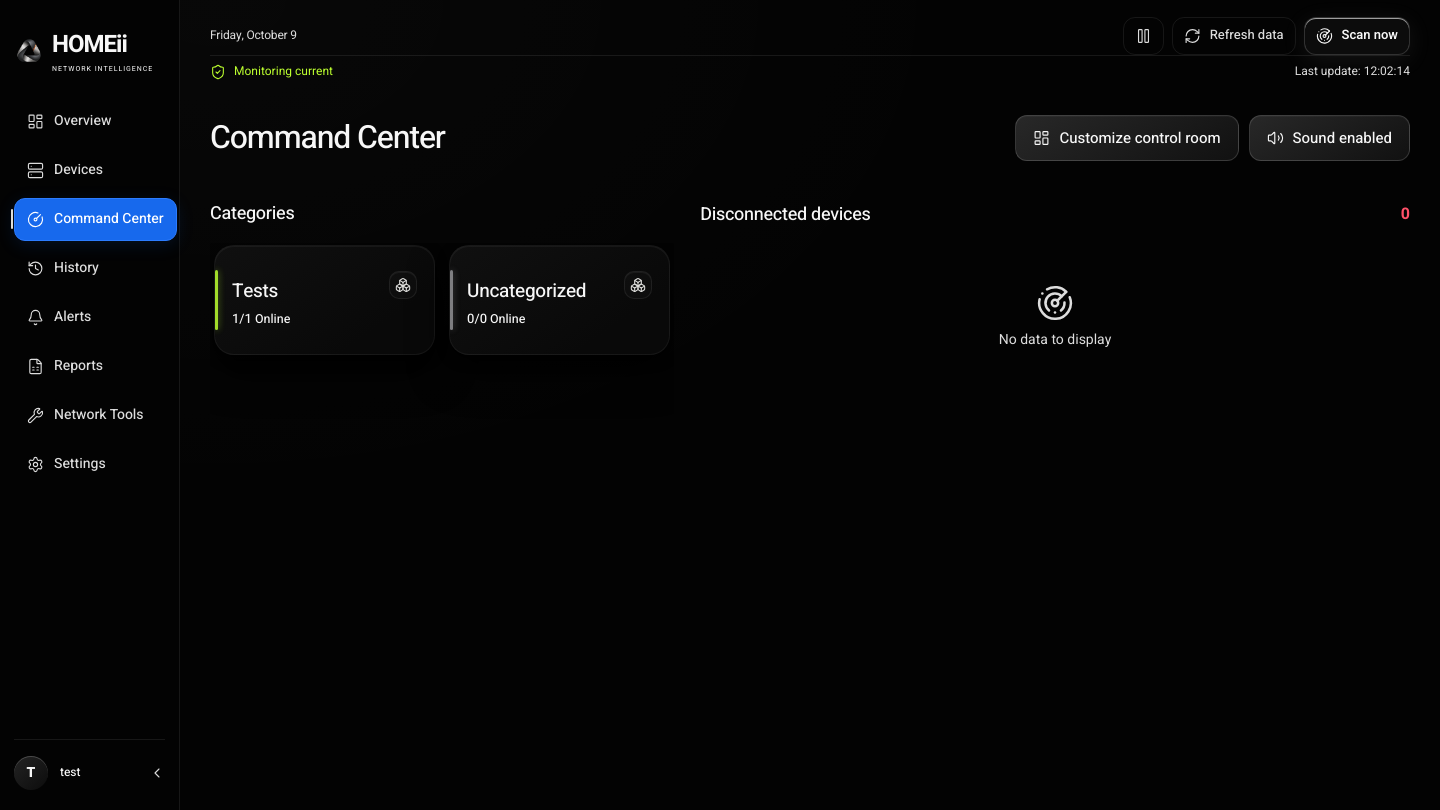
control center › opens customization, saves selection, and opens uncategorized detail
Expected: the button "Refresh data" is shown, [1172,16,1296,54]
Click the button "Customize control room": (1127, 138) [1015,115,1238,161]
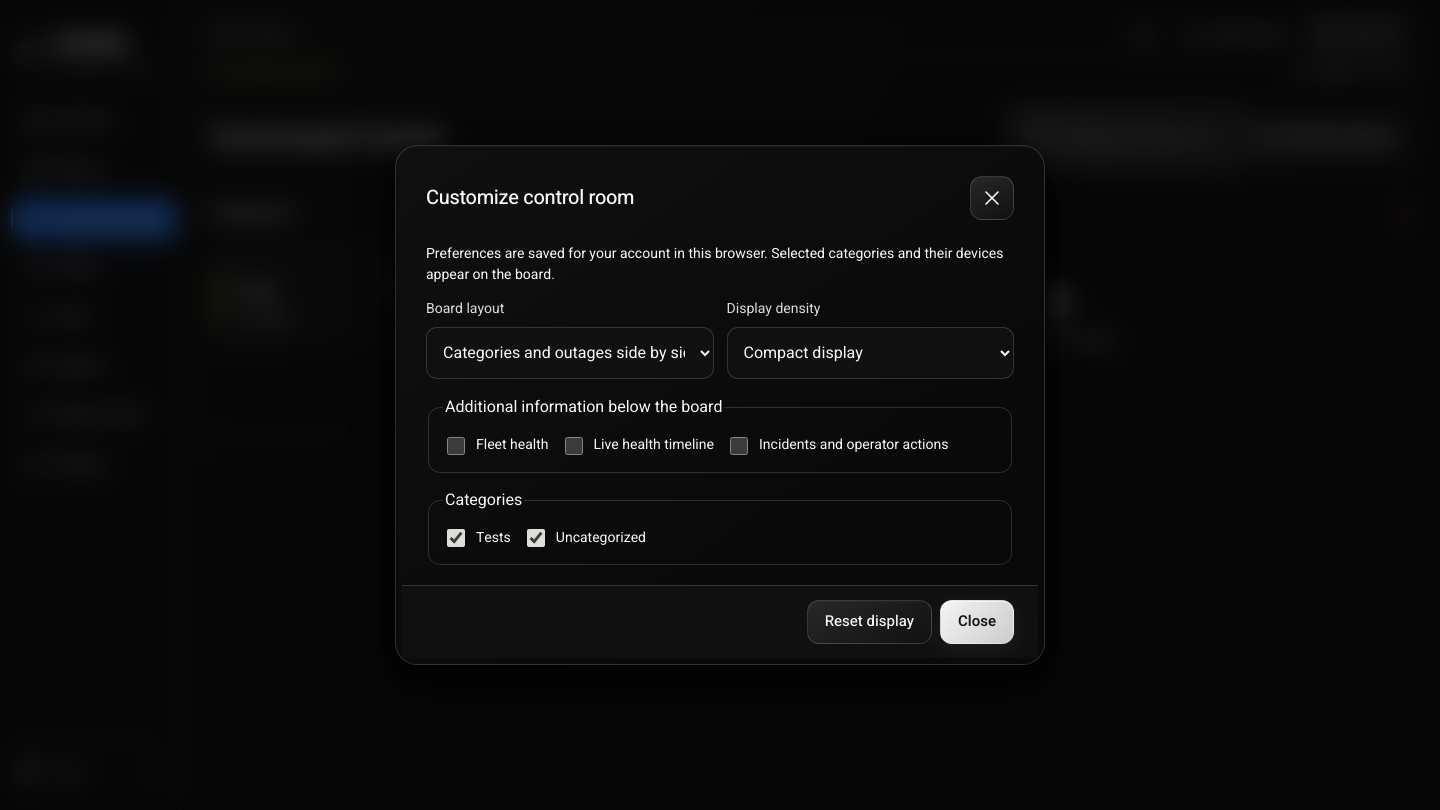
Select "Categories above outages" in the dropdown labelled "Board layout": (570, 353) [426,327,714,379]
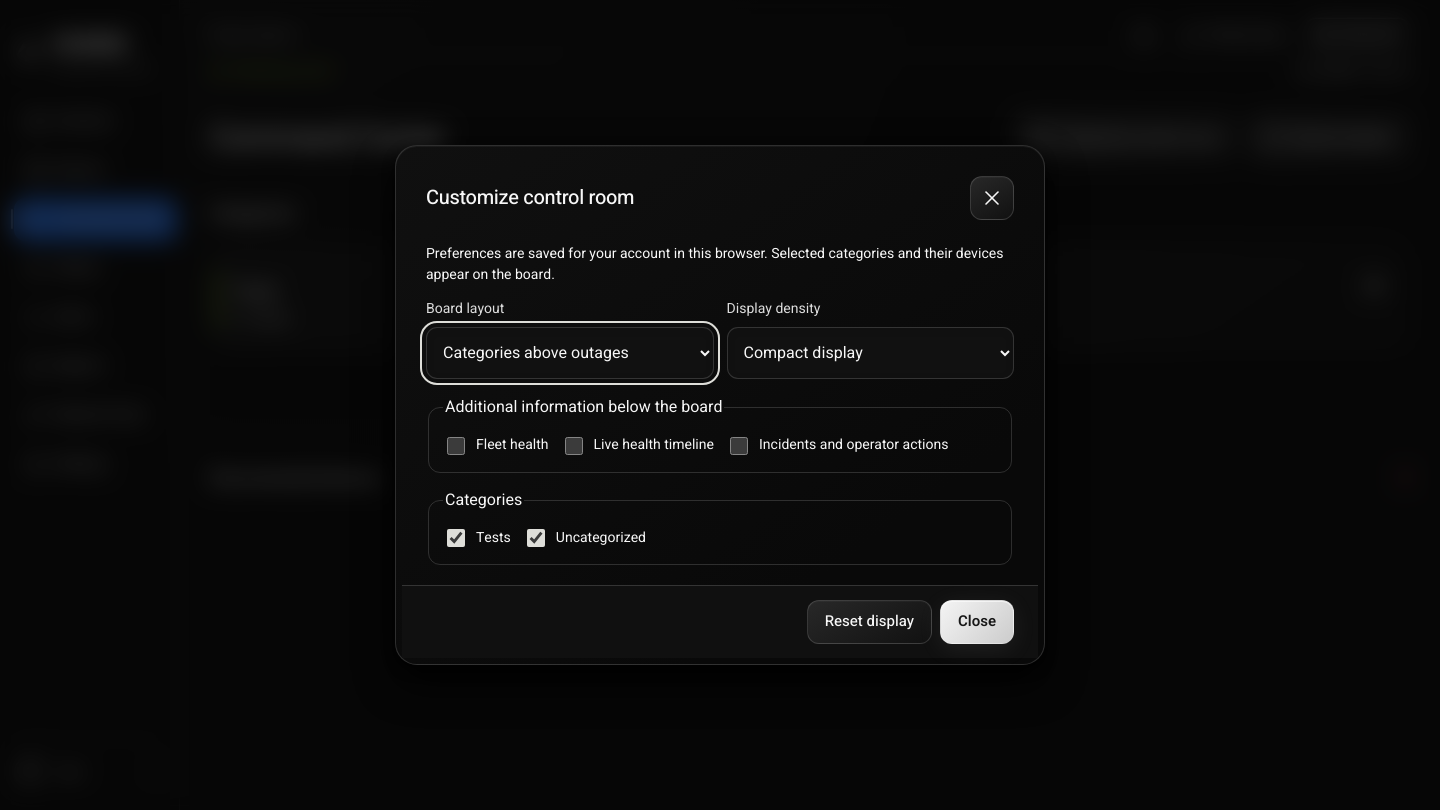
Click the checkbox labelled "Tests": (456, 538) [447,529,465,547]
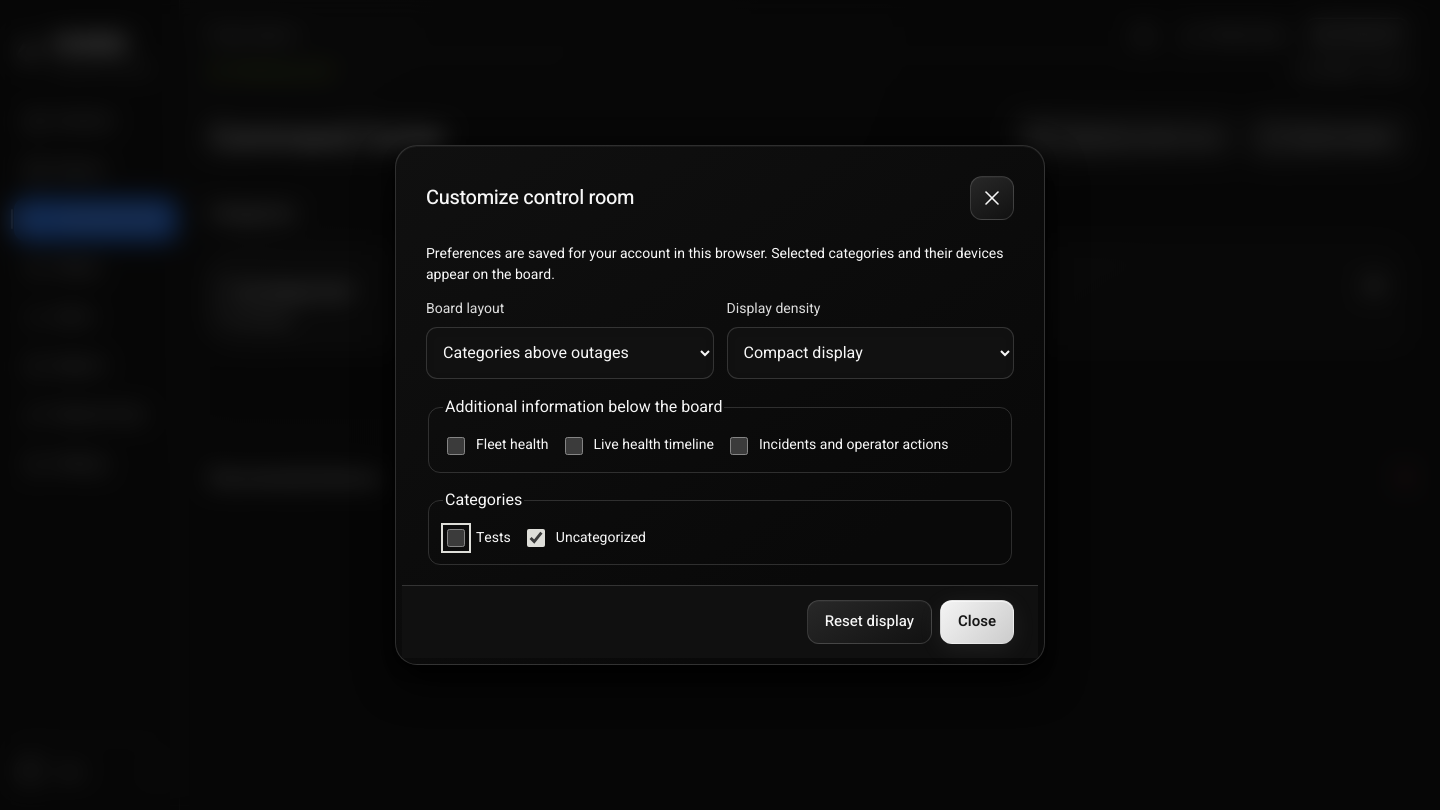
Click the button "Close": (977, 622) [940,600,1014,644]
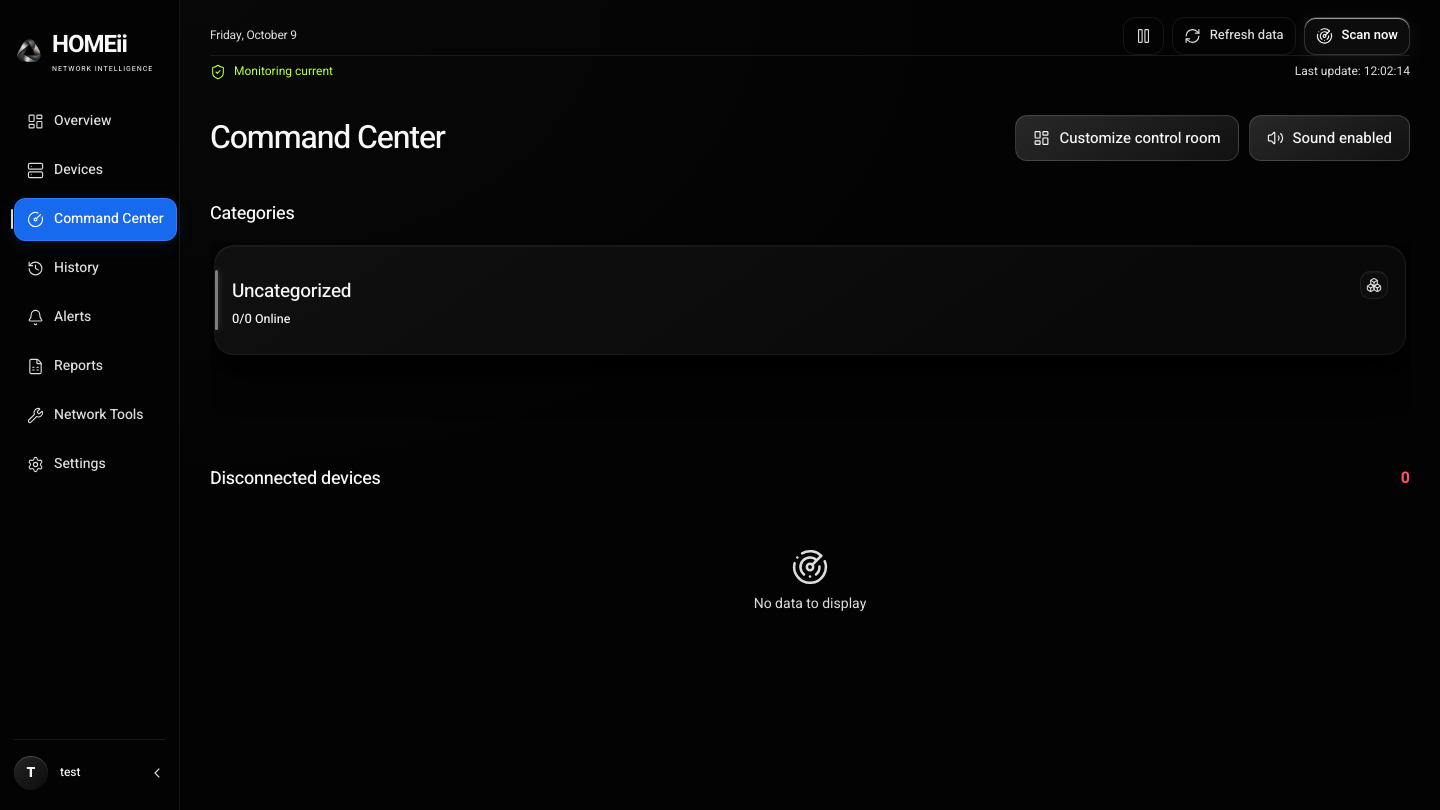
Expected: the element with class "layout-stacked" is shown
Click the button "Uncategorized 0/0 Online": (292, 291) [214,245,1406,355]
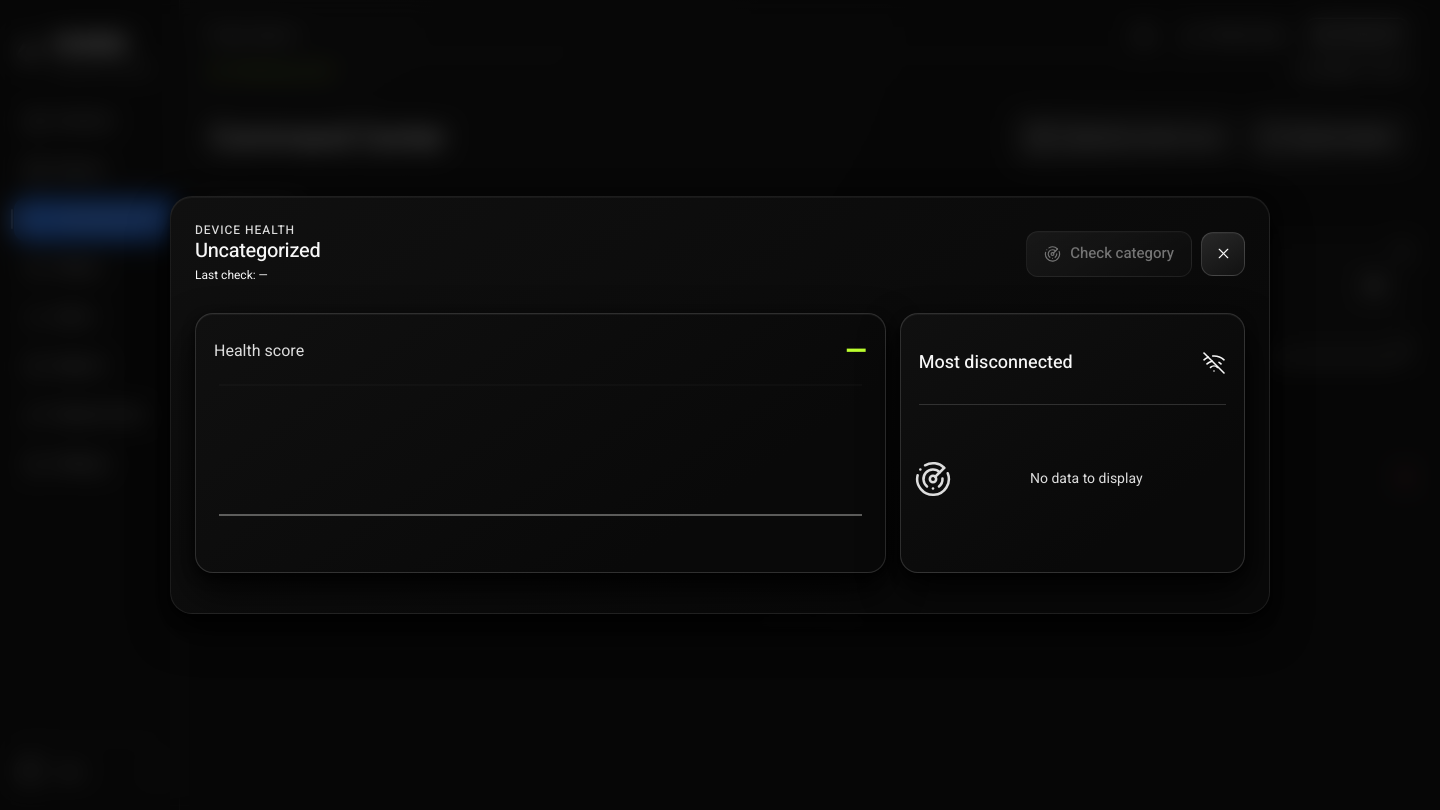
Expected: the dialog "Uncategorized" is shown, [170,196,1270,614]
